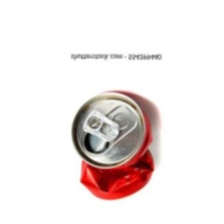can: (67, 89, 162, 203)
